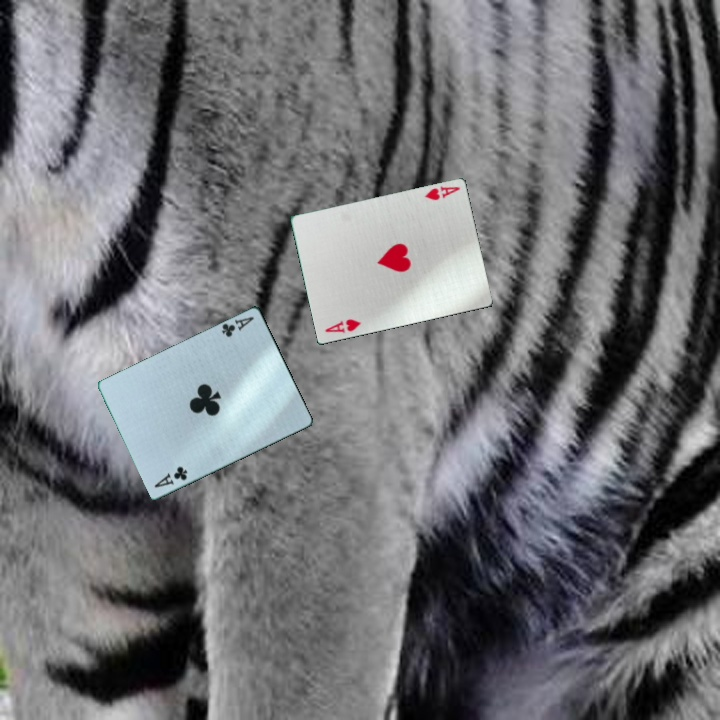Ac: (218, 312, 257, 340), (151, 463, 191, 490)
Ah: (321, 315, 364, 336), (422, 182, 463, 203)
